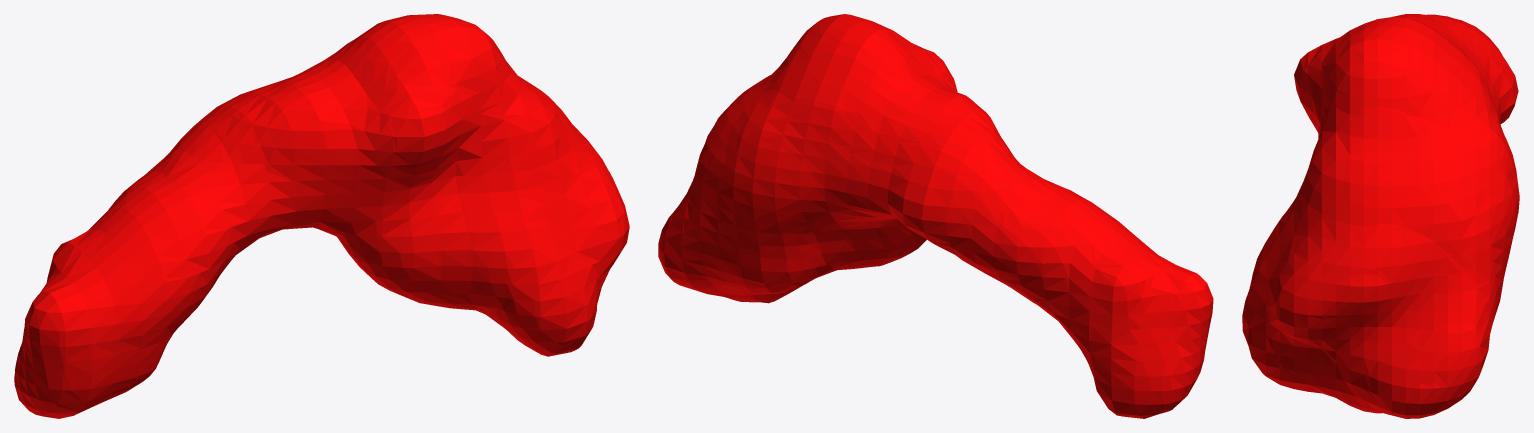
Rendered from rplU_coarse.dae.
The picture shows the model from 3 angles, left to right: view 1: azimuth 30°, elevation 25°; view 2: azimuth 150°, elevation 25°; view 3: azimuth 270°, elevation 25°; orthographic projection. The views are drawn at different scales.
Parts seen in each view (by area): view 1: rplU; view 2: rplU; view 3: rplU.
Part boxes in pixels (x1,y1,x2,y2): rplU: (14, 14, 629, 418); rplU: (658, 14, 1213, 418); rplU: (1242, 14, 1519, 418).
Size of the model in its own units: 69.51 by 38.03 by 28.94.
